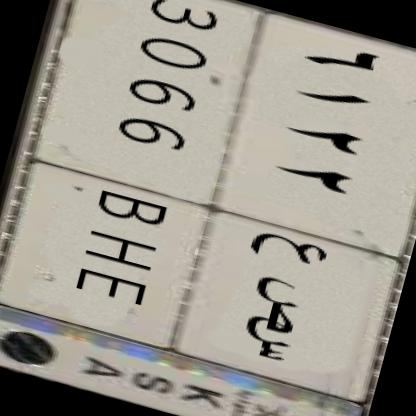english: (0, 0, 285, 363)
